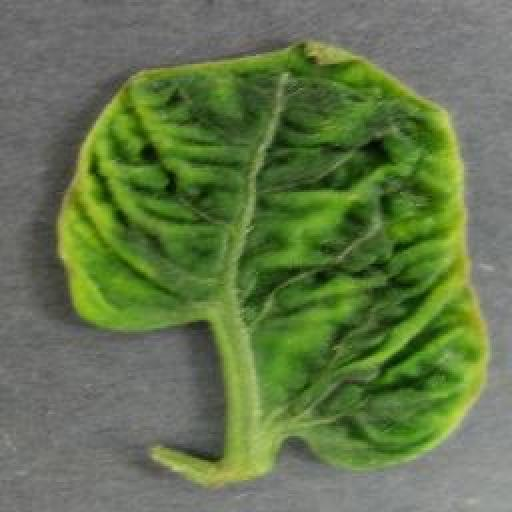disease_tomato: (55, 38, 492, 472)
